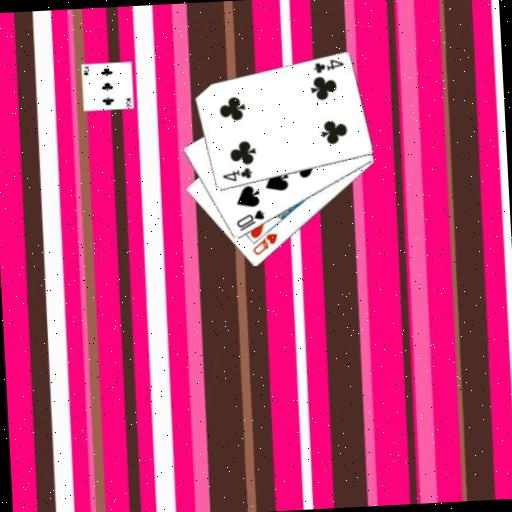10S: (233, 207, 267, 234)
4C: (310, 56, 346, 76), (219, 164, 254, 184)
QH: (249, 230, 280, 257)
